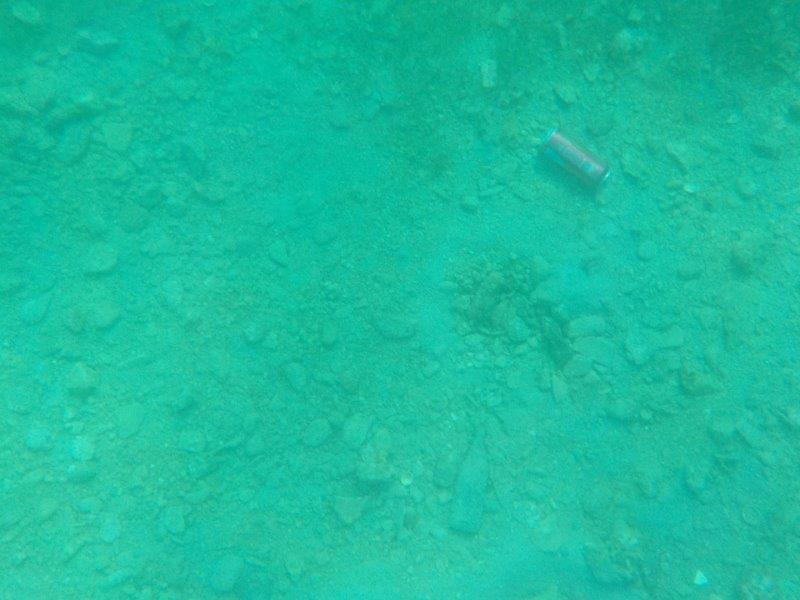bottle: (444, 421, 501, 542)
